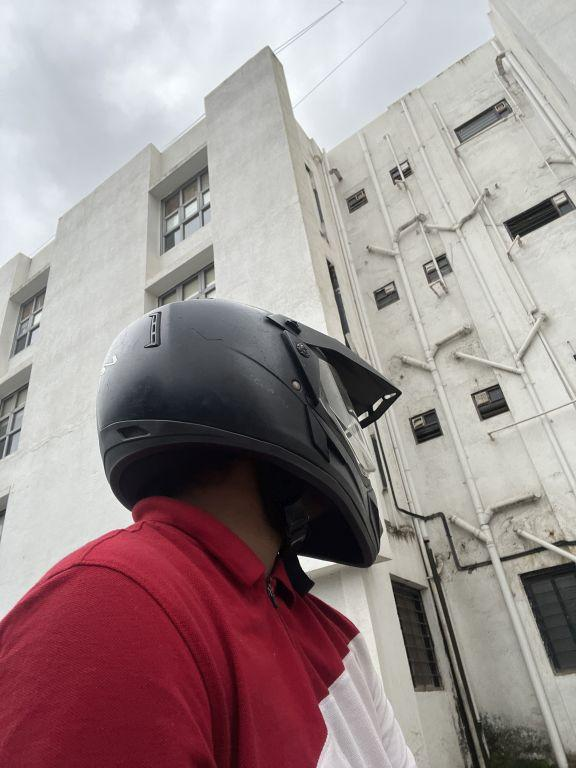helmet: (85, 284, 402, 577)
